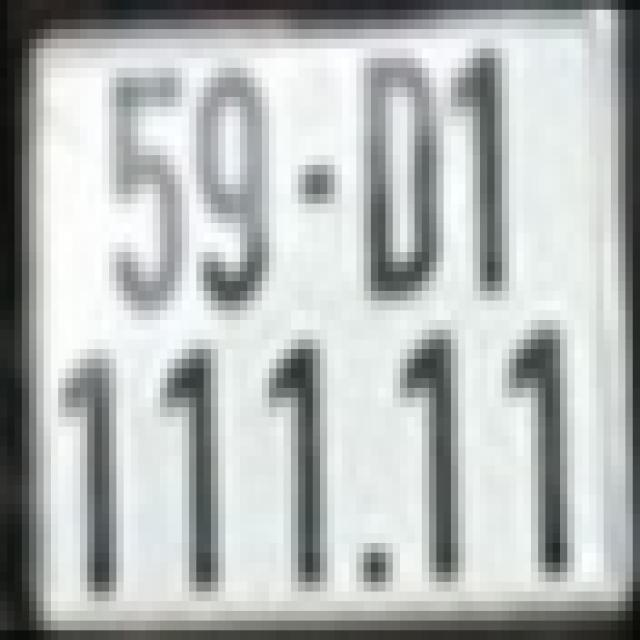1: (400, 330, 466, 582), (510, 320, 574, 572), (160, 349, 226, 592), (451, 48, 516, 291), (58, 358, 124, 592), (269, 339, 327, 582)
5: (109, 77, 182, 310)
9: (196, 67, 269, 300)
D: (364, 58, 436, 301)
